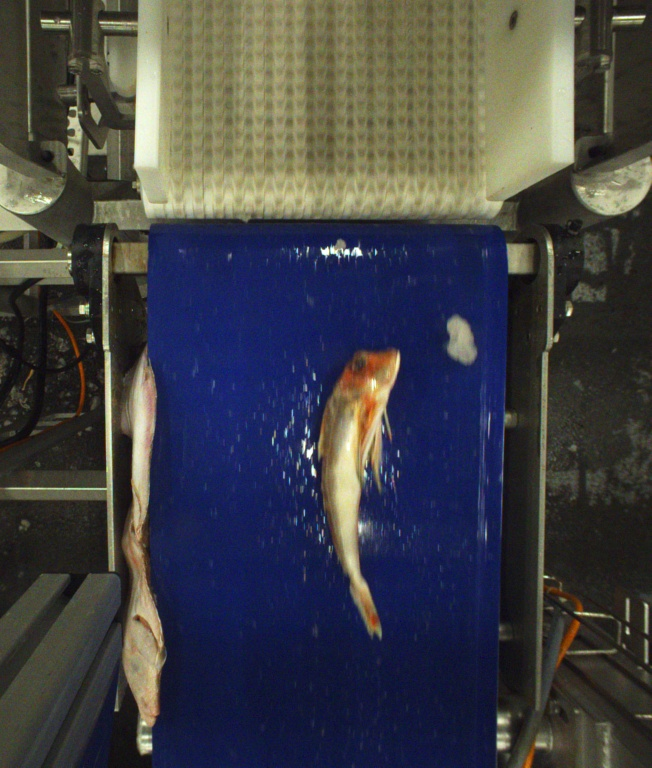GUU: (316, 341, 403, 639)
